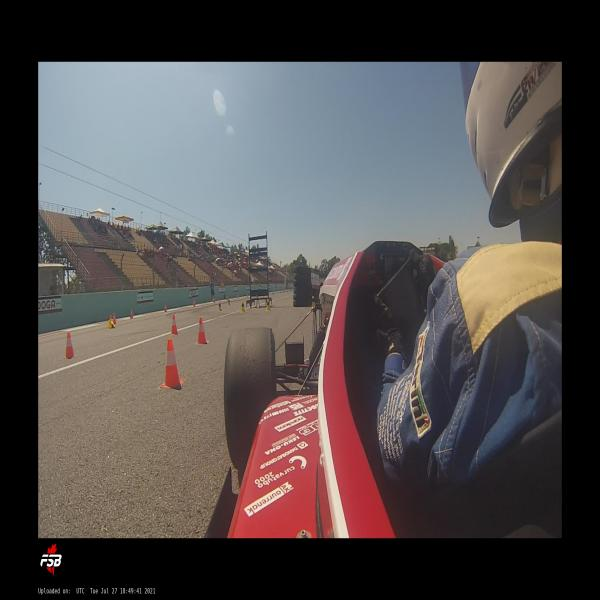orange_cone: (161, 339, 184, 389), (196, 316, 208, 344), (65, 332, 76, 359), (170, 314, 178, 335), (112, 313, 116, 325), (130, 309, 134, 319), (164, 303, 167, 312), (193, 300, 196, 306), (213, 297, 215, 303), (226, 296, 228, 302), (237, 294, 239, 299)
yellow_cone: (108, 319, 116, 329), (311, 295, 315, 308), (266, 299, 270, 312), (241, 300, 245, 312), (218, 302, 222, 311), (228, 298, 230, 306), (272, 292, 274, 297)
